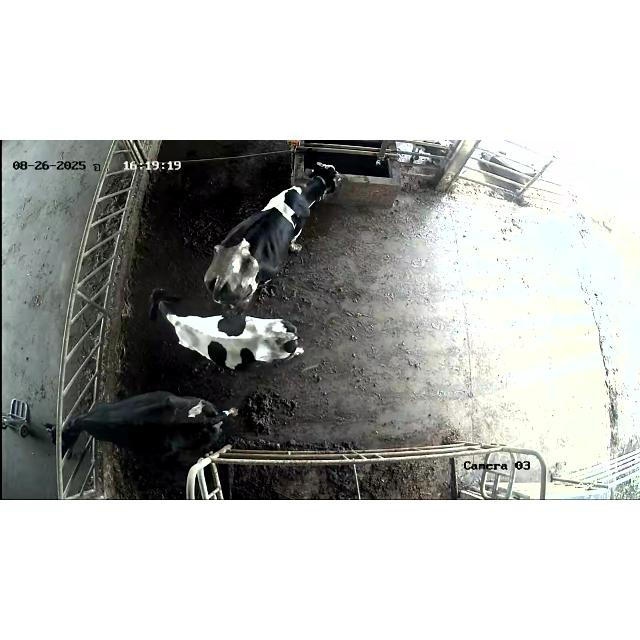stand: (199, 159, 343, 311), (138, 285, 314, 379)
